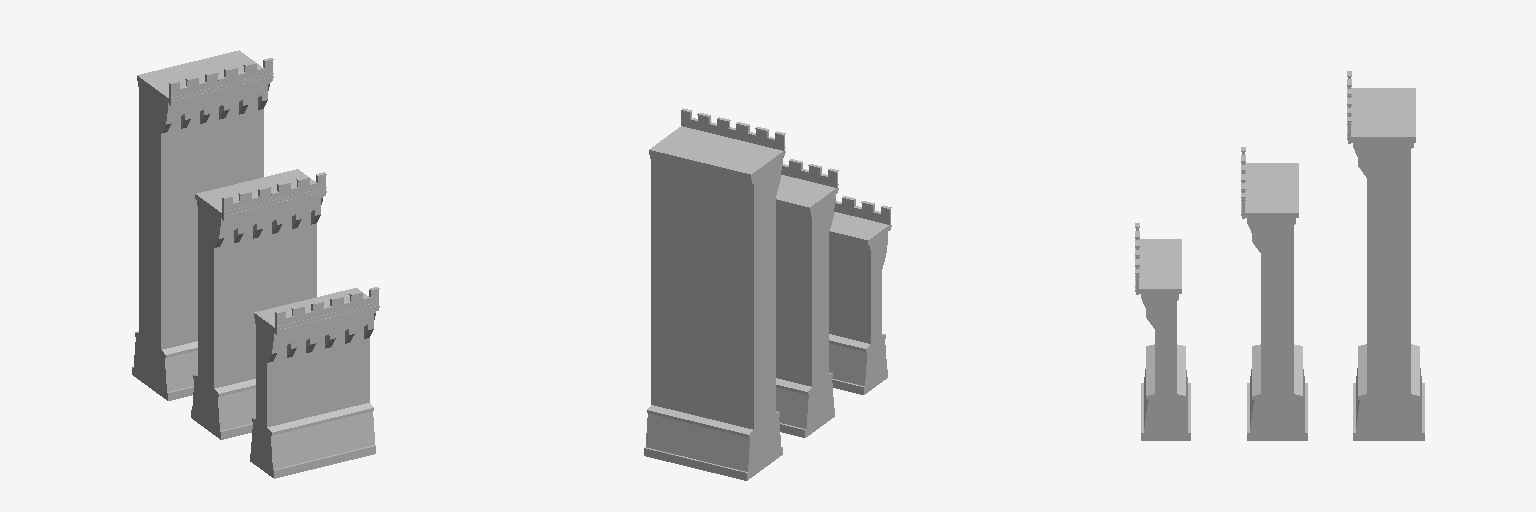
Rendered from Drachmeister-50ft walls.obj.
3 renders of one model, left to right at view 1: azimuth 30°, elevation 25°; view 2: azimuth 150°, elevation 25°; view 3: azimuth 270°, elevation 25°, orthographic.
Visible parts, largest first — view 1: main2, main1, main, cren2, cren, cren1, Wall_50_L_Trim, Wall_50_H_Trim, Wall_50_M_Trim; view 2: main2, main1, main, cren2, cren1, cren; view 3: main2, main1, main, cren2, cren1, cren.
Boxes of the visible parts, box(x1,y1,x2,y2) form: main2: box(132, 50, 263, 400); main1: box(191, 169, 316, 439); main: box(250, 288, 375, 478); cren2: box(138, 61, 272, 133); cren: box(255, 290, 378, 362); cren1: box(197, 175, 325, 247); Wall_50_L_Trim: box(275, 287, 379, 331); Wall_50_H_Trim: box(169, 58, 273, 102); Wall_50_M_Trim: box(222, 172, 326, 217); main2: box(644, 126, 783, 480); main1: box(776, 175, 836, 437); main: box(829, 212, 889, 394); cren2: box(650, 111, 784, 194); cren1: box(776, 162, 837, 231); cren: box(829, 196, 890, 268); main2: box(1349, 88, 1424, 440); main1: box(1245, 163, 1307, 440); main: box(1139, 239, 1190, 440); cren2: box(1348, 77, 1413, 177); cren1: box(1242, 152, 1295, 252); cren: box(1136, 228, 1178, 328).
Size of the model in its own units: 53 by 158 by 130.